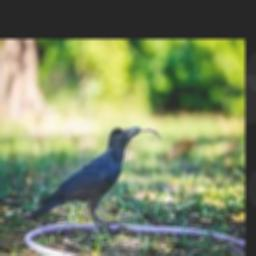Crow: (25, 127, 140, 227)
